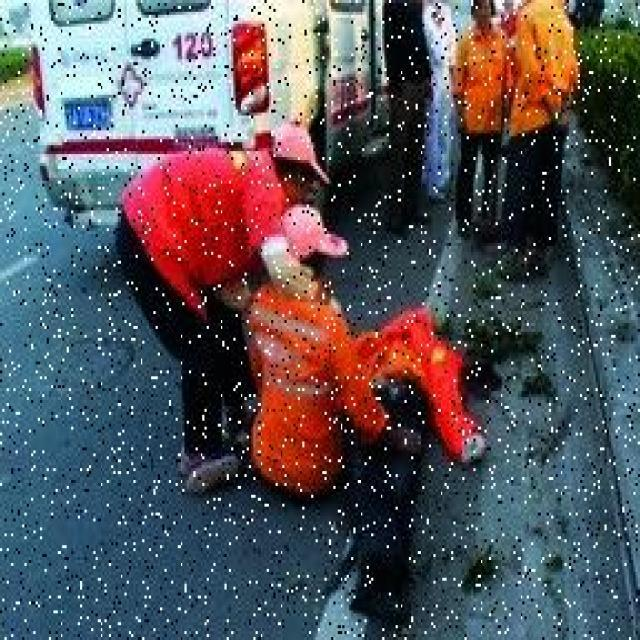fall: (351, 294, 478, 620)
